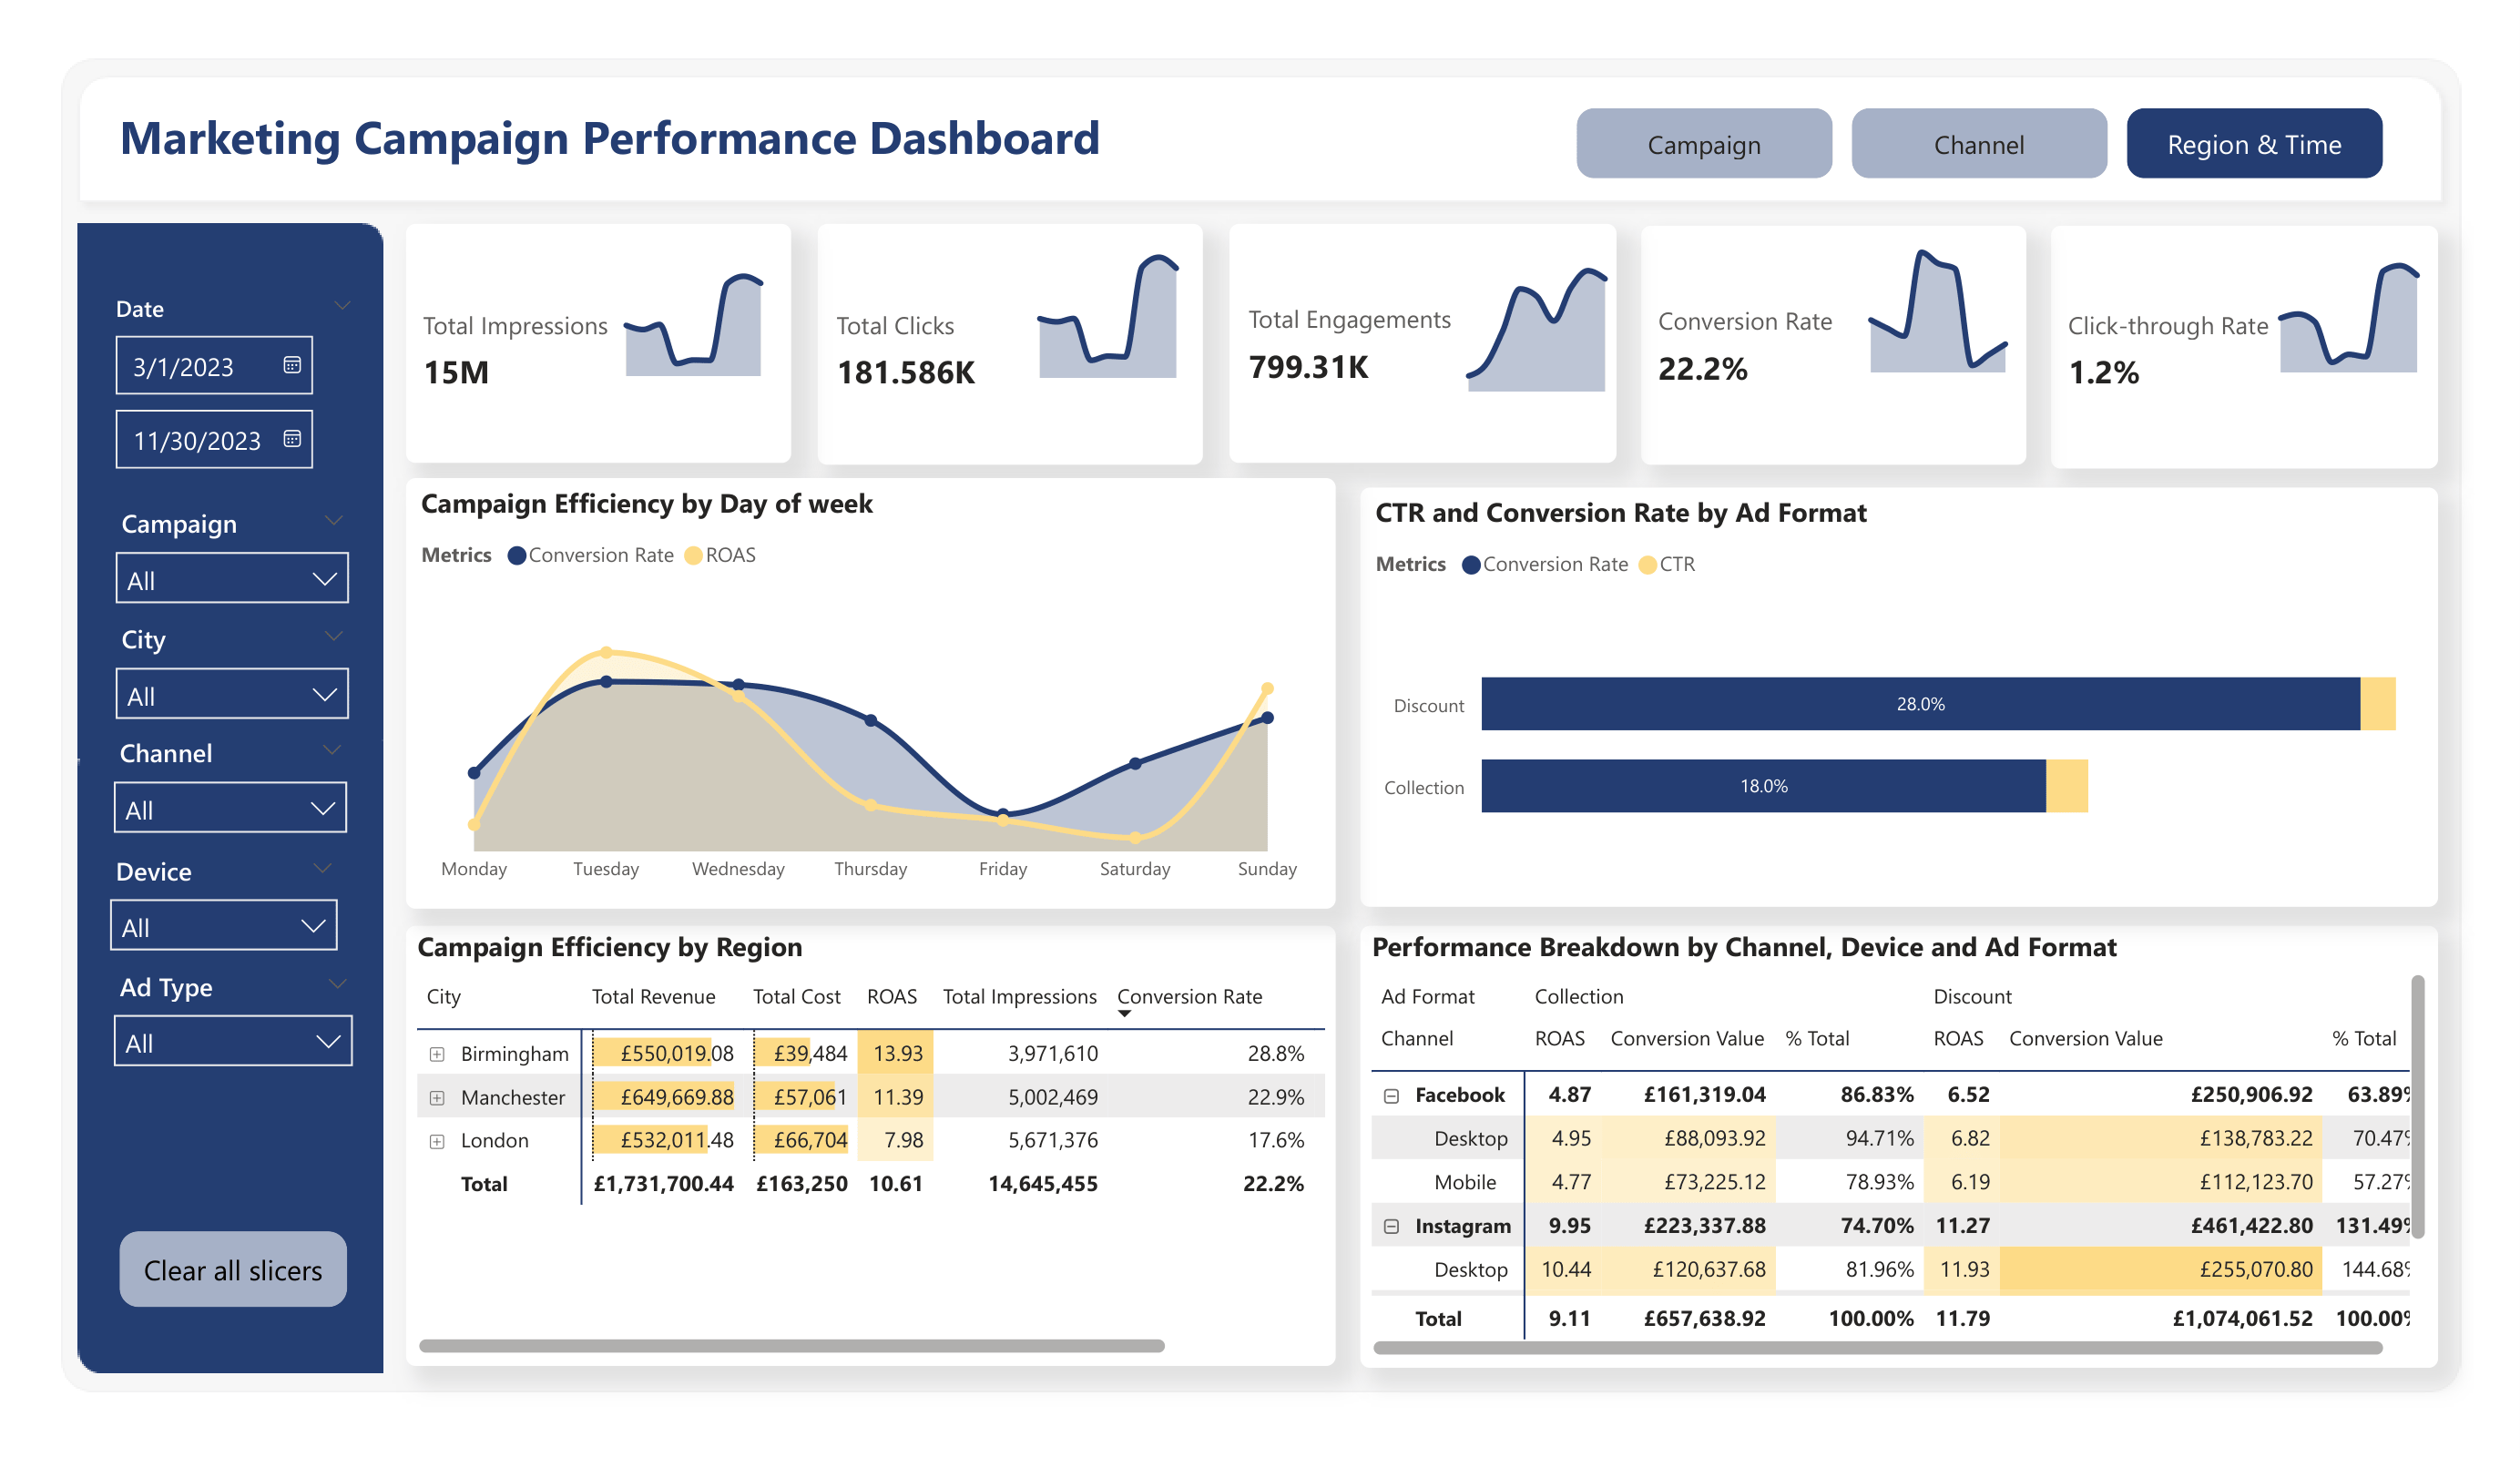

The page's visual inventory and layout, read from the dashboard file:
{"tool":"powerbi","page":{"name":"Region & Time","canvas":[1280,720],"ordinal":2},"visuals":[{"type":"textbox","title":"Title","box":[34.2,26,772.6,43.9],"z":0},{"type":"pageNavigator","box":[806.8,32.5,426.2,37.4],"z":0,"group":"g1"},{"type":"slicer","title":"Filter Shipping Partner","fields":{"Values":["dim_ad.Ad_Format"]},"box":[25.6,482.5,146.4,83],"z":0,"group":"g2"},{"type":"areaChart","fields":{"Category":["dim_calendar.StartOfMonth"]},"box":[725.3,93.3,101.3,84],"z":1000},{"type":"slicer","title":"Filter Product Name","fields":{"Values":["dim_device.Device_Name"]},"box":[24,421.1,139.9,84.6],"z":1000,"group":"g2"},{"type":"slicer","title":"Filter Product Category","fields":{"Values":["dim_channel.Channel_Name"]},"box":[25.6,359.7,143.1,84.6],"z":2000,"group":"g2"},{"type":"pivotTable","title":"Campaign Efficiency by Region","fields":{"Values":["Sum(fact_mkt.Total conversion value, GBP)","Sum(fact_mkt.Spend, GBP)","*Metrics.M_ROAS","*Key Indicators.M_TotalImpressions","*Metrics.M_ConversionRate","*Metrics.M_CostperMile","*Metrics.M_CostperConversion"],"Rows":["dim_region.Region_Name","dim_campaign.Campaign"]},"box":[190.3,463.6,489.6,232.6],"z":2000},{"type":"slicer","title":"Filter Region Name","fields":{"Values":["dim_campaign.Campaign"]},"box":[27.3,238.5,143.1,84.6],"z":3000,"group":"g2"},{"type":"pivotTable","title":"Performance Breakdown by Channel, Device and Ad Format","fields":{"Rows":["dim_channel.Channel_Name","dim_device.Device_Name"],"Columns":["dim_ad.Ad_Format"],"Values":["*Metrics.M_ROAS","Sum(fact_mkt.Total conversion value, GBP)","*Metrics.M_ConversionValue per GBP"]},"box":[693.2,464.4,567.8,232.2],"z":3000},{"type":"slicer","title":"Filter Region State","fields":{"Values":["dim_region.Region_Name"]},"box":[27.3,299.9,143.1,83],"z":4000,"group":"g2"},{"type":"actionButton","box":[39,624.6,120.4,40.7],"z":4000},{"type":"group","id":"g1","title":"Navigation","box":[806.8,32.5,426.2,37.4],"z":5000},{"type":"shape","box":[406.6,94.3,203.3,126.9],"z":6000},{"type":"shape","box":[1057.3,94.7,204,128],"z":7000},{"type":"shape","box":[841.3,94.7,202.7,126.7],"z":8000},{"type":"shape","box":[624.1,94,203.6,126.5],"z":9000},{"type":"shape","box":[189.9,94.2,202.9,126.1],"z":10000},{"type":"cardVisual","fields":{"Data":["Sum(fact_mkt.Clicks)"]},"box":[408.3,96,156.1,126.9],"z":11000},{"type":"cardVisual","fields":{"Data":["*Metrics.M_ConversionRate"]},"box":[840.7,95.1,155.6,125.9],"z":12000},{"type":"areaChart","fields":{"Category":["dim_calendar.StartOfMonth"],"Y":["Avg(fact_mkt.CTR, %)"]},"box":[1163,92.7,102.5,84.6],"z":13000},{"type":"areaChart","fields":{"Category":["dim_calendar.StartOfMonth"],"Y":["Sum(fact_mkt.Engagements)"]},"box":[735.3,103.3,101.3,84],"z":14000},{"type":"areaChart","fields":{"Category":["dim_calendar.StartOfMonth"],"Y":["*Metrics.M_ConversionRate"]},"box":[946.7,93.3,101.3,84],"z":15000},{"type":"areaChart","fields":{"Category":["dim_calendar.StartOfMonth"],"Y":["Sum(fact_mkt.Impressions)"]},"box":[290.7,94.7,101.3,84],"z":16000},{"type":"areaChart","fields":{"Category":["dim_calendar.StartOfMonth"],"Y":["Sum(fact_mkt.Clicks)"]},"box":[509.3,96,101.3,84],"z":17000},{"type":"cardVisual","fields":{"Data":["Sum(fact_mkt.Engagements)"]},"box":[624.6,94.3,136.6,125.2],"z":18000},{"type":"cardVisual","fields":{"Data":["Avg(fact_mkt.CTR, %)"]},"box":[1057.3,96,156.1,126.9],"z":19000},{"type":"cardVisual","fields":{"Data":["Sum(fact_mkt.Impressions)"]},"box":[190.3,96,156.1,126.9],"z":20000},{"type":"slicer","title":"Date","fields":{"Values":["dim_calendar.Date"]},"box":[24.1,125.1,149.6,143.1],"z":22000},{"type":"group","id":"g2","title":"Group 1","box":[24,238.5,148,326.9],"z":23000},{"type":"barChart","title":"CTR and Conversion Rate by Ad Format","fields":{"Category":["dim_ad.Ad_Format"],"Y":["*Metrics.M_ConversionRate","Avg(fact_mkt.CTR, %)"]},"box":[692.9,232.6,567.7,221.2],"z":24000},{"type":"areaChart","title":"Campaign Efficiency by Day of week","fields":{"Category":["dim_calendar.DayName"],"Y2":["*Metrics.M_ROAS"],"Y":["*Metrics.M_ConversionRate"]},"box":[190.3,227.7,489.6,227.7],"z":25000}]}

Visuals, with their boxes on the page's 1280x720 design canvas (x1, y1, x2, y2). These are canvas units, not pixel positions in the 2520x1457 screenshot, which may show the page scaled, cropped or inside an application window:
"Title" textbox: [34,26,807,70]
pageNavigator: [807,32,1233,70]
"Filter Shipping Partner" slicer: [26,482,172,566]
areaChart - dim_calendar.StartOfMonth: [725,93,827,177]
"Filter Product Name" slicer: [24,421,164,506]
"Filter Product Category" slicer: [26,360,169,444]
"Campaign Efficiency by Region" pivotTable: [190,464,680,696]
"Filter Region Name" slicer: [27,238,170,323]
"Performance Breakdown by Channel, Device and Ad Format" pivotTable: [693,464,1261,697]
"Filter Region State" slicer: [27,300,170,383]
actionButton: [39,625,159,665]
"Navigation" group: [807,32,1233,70]
shape: [407,94,610,221]
shape: [1057,95,1261,223]
shape: [841,95,1044,221]
shape: [624,94,828,220]
shape: [190,94,393,220]
cardVisual - Sum(fact_mkt.Clicks): [408,96,564,223]
cardVisual - *Metrics.M_ConversionRate: [841,95,996,221]
areaChart - dim_calendar.StartOfMonth x Avg(fact_mkt.CTR, %): [1163,93,1266,177]
areaChart - dim_calendar.StartOfMonth x Sum(fact_mkt.Engagements): [735,103,837,187]
areaChart - dim_calendar.StartOfMonth x *Metrics.M_ConversionRate: [947,93,1048,177]
areaChart - dim_calendar.StartOfMonth x Sum(fact_mkt.Impressions): [291,95,392,179]
areaChart - dim_calendar.StartOfMonth x Sum(fact_mkt.Clicks): [509,96,611,180]
cardVisual - Sum(fact_mkt.Engagements): [625,94,761,220]
cardVisual - Avg(fact_mkt.CTR, %): [1057,96,1213,223]
cardVisual - Sum(fact_mkt.Impressions): [190,96,346,223]
"Date" slicer: [24,125,174,268]
"Group 1" group: [24,238,172,565]
"CTR and Conversion Rate by Ad Format" barChart: [693,233,1261,454]
"Campaign Efficiency by Day of week" areaChart: [190,228,680,455]
